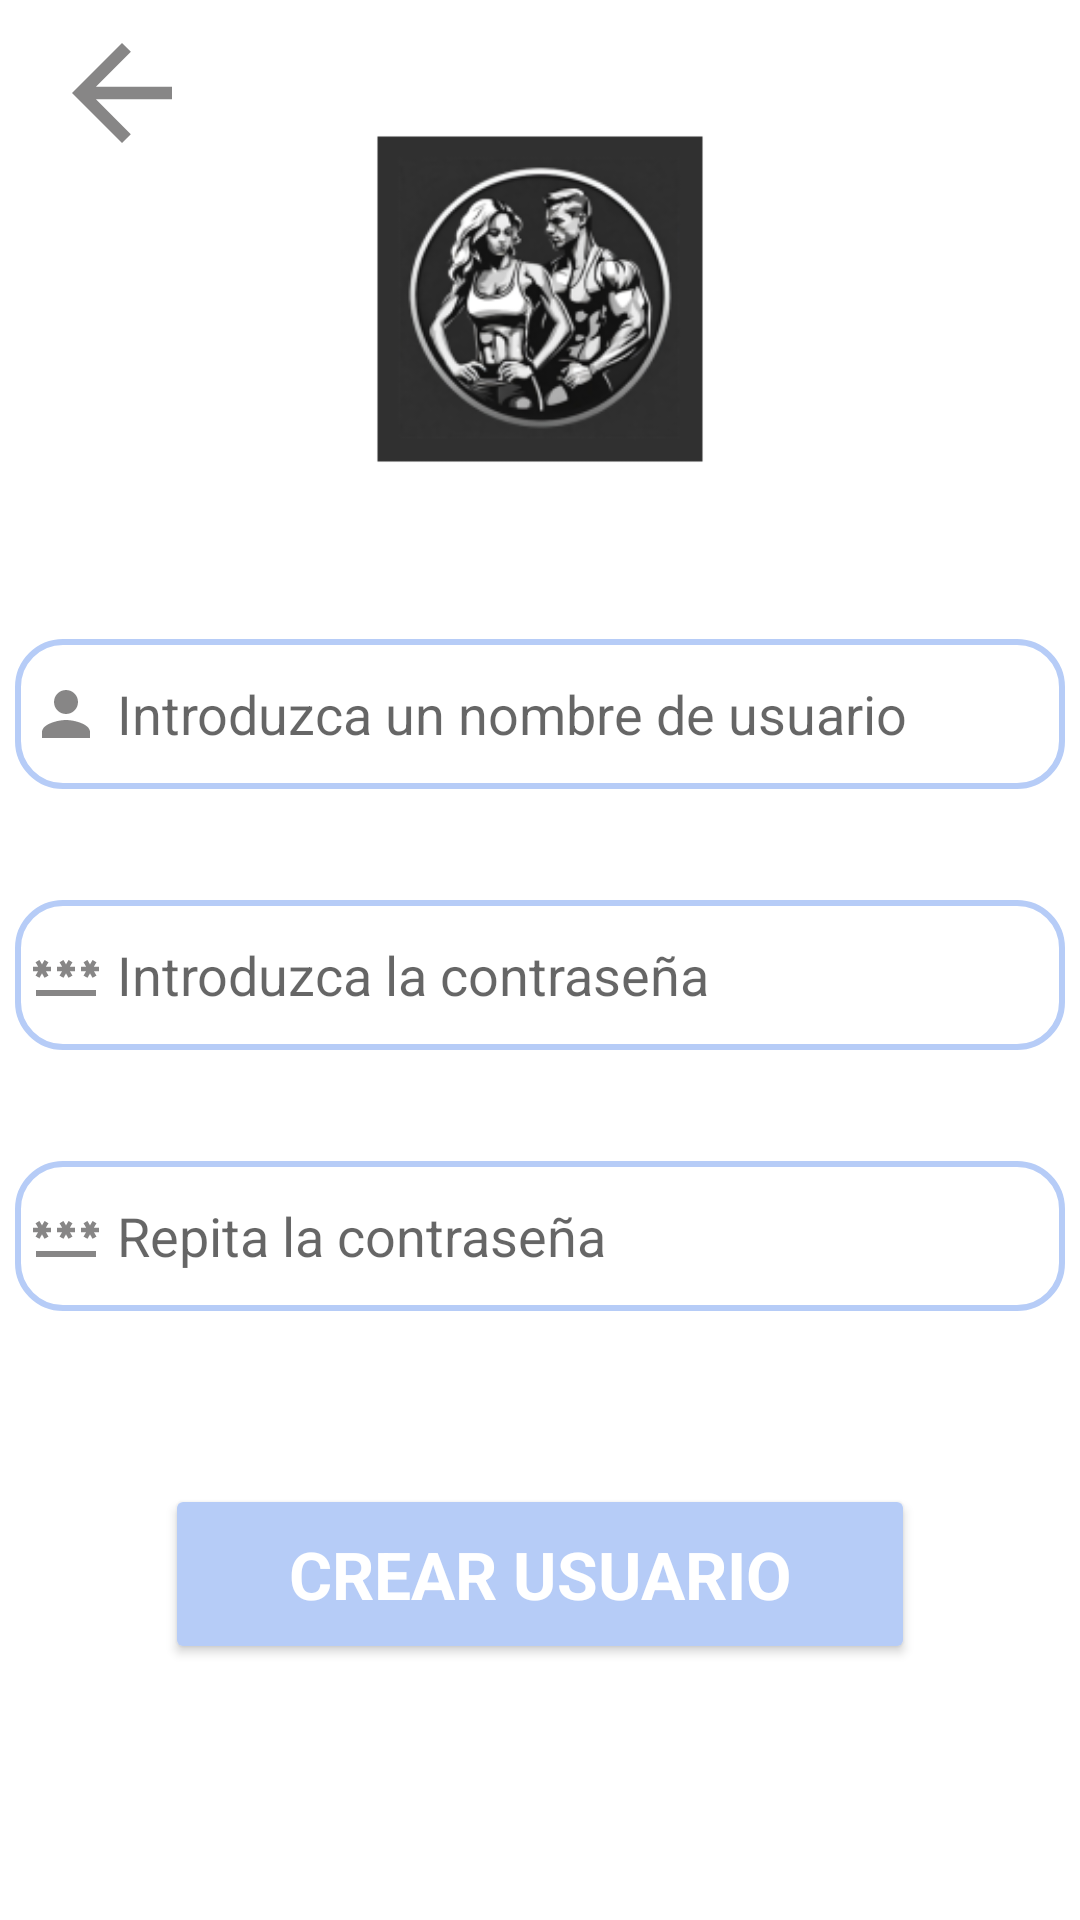

Screen size 1080px x 1920px. Icon name, then its center in pixels as point (x, y):
Atrás: point (122, 93)
